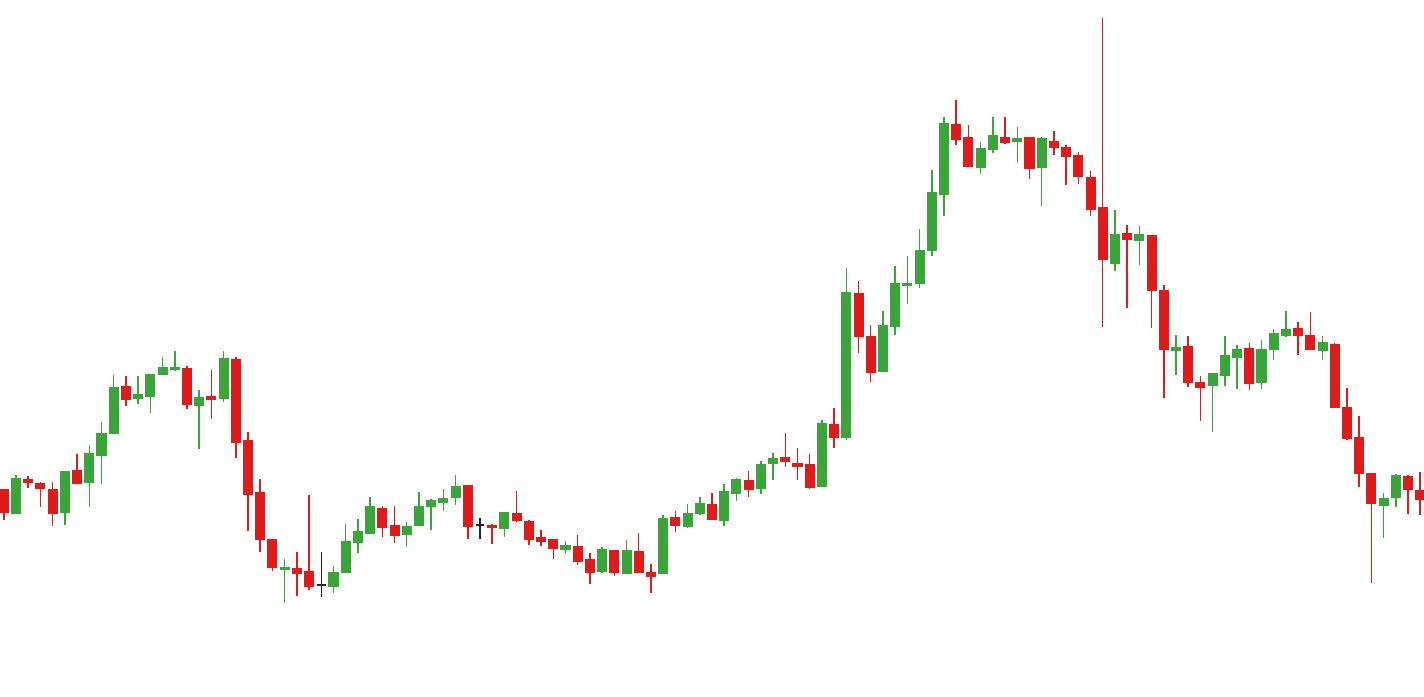sell: (364, 478, 476, 531)
